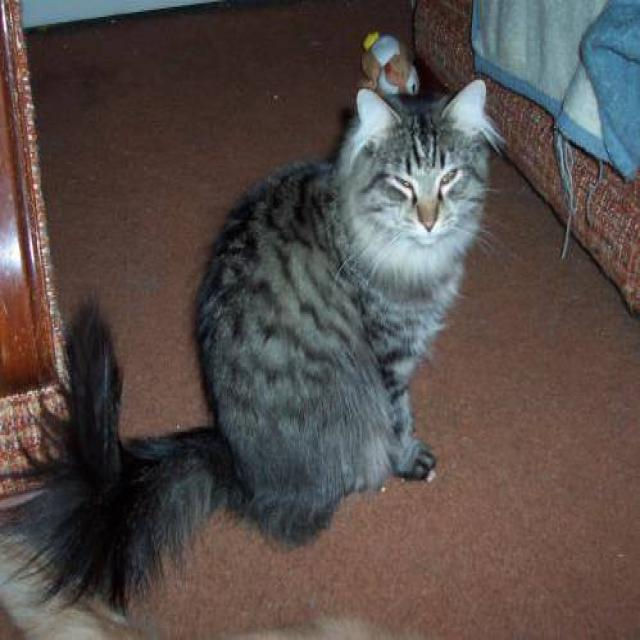cat: (0, 75, 508, 618)
